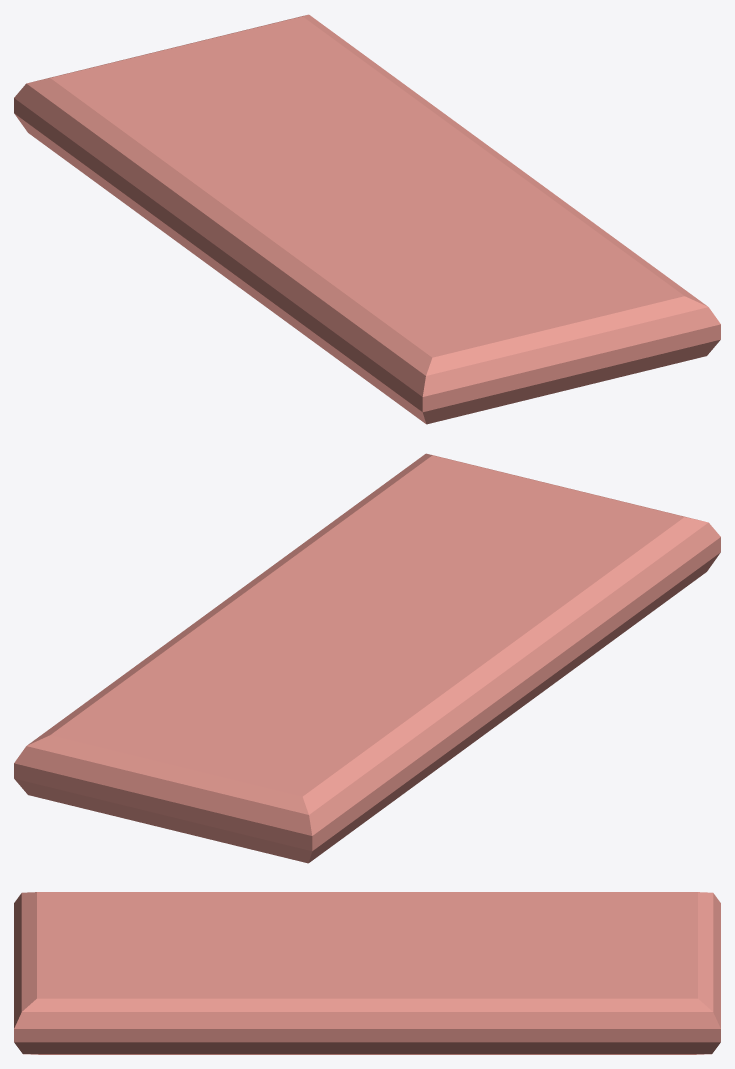
The model's file is pillow.gltf.
The picture shows the model from 3 angles, top to bottom: view 1: azimuth 30°, elevation 25°; view 2: azimuth 150°, elevation 25°; view 3: azimuth 270°, elevation 25°; orthographic projection. The views are drawn at different scales.
Visible parts, largest first — view 1: pillow; view 2: pillow; view 3: pillow.
Part boxes in pixels (x1,y1,x2,y2): pillow: [14, 14, 720, 424]; pillow: [14, 453, 720, 863]; pillow: [14, 892, 720, 1054].
Bounding box in the file's own units: 0.684 × 0.1461 × 1.62.
